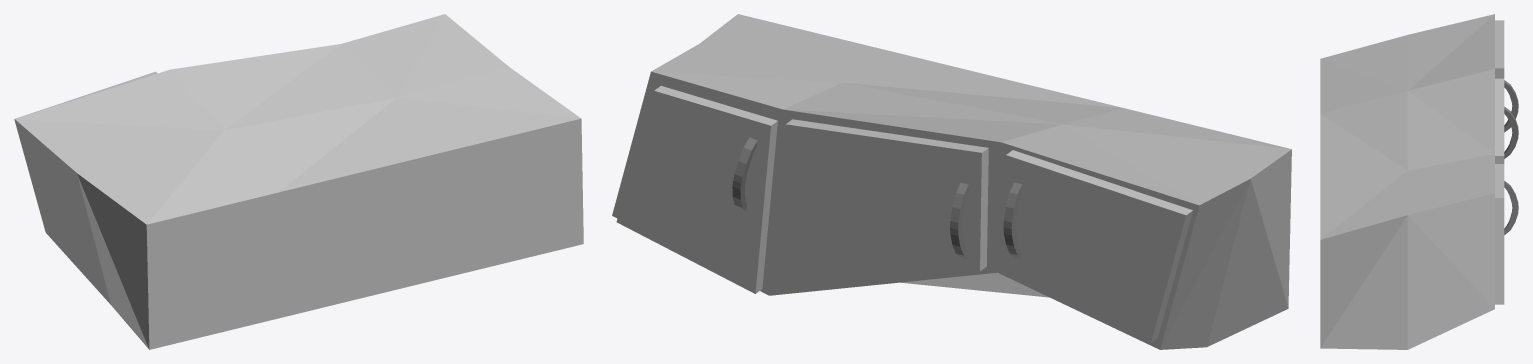
Rendered from kitchenOverheadCupboards.fbx.
3 renders of one model, left to right at view 1: azimuth 30°, elevation 25°; view 2: azimuth 150°, elevation 25°; view 3: azimuth 270°, elevation 25°, orthographic. The views are drawn at different scales.
Visible parts, largest first — view 1: geo_kitchenOverheadCupboards; view 2: geo_kitchenOverheadCupboards; view 3: geo_kitchenOverheadCupboards.
Part boxes in pixels (x1,y1,x2,y2): geo_kitchenOverheadCupboards: (14,14,583,349); geo_kitchenOverheadCupboards: (612,14,1291,349); geo_kitchenOverheadCupboards: (1320,14,1518,349).
Bounding box in the file's own units: 155 × 58.04 × 65.24.
1 material, 1 textured.
